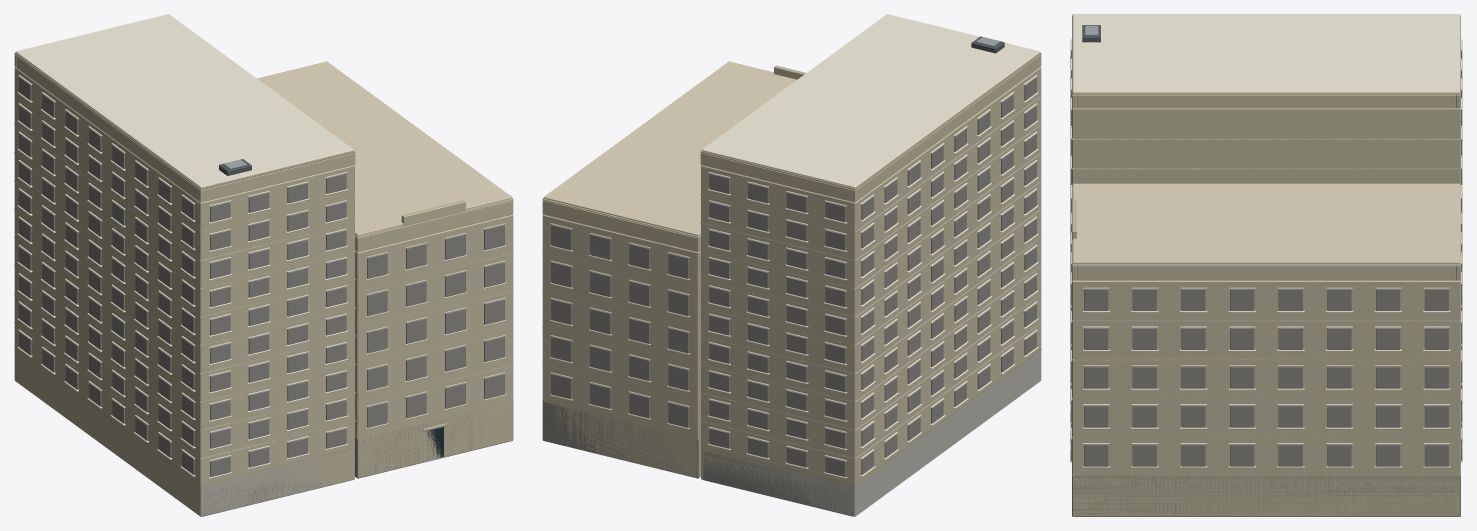
The model's file is VG_Bld_Downtown_06.fbx.
3 views of the same model, side by side, from view 1: azimuth 30°, elevation 25°; view 2: azimuth 150°, elevation 25°; view 3: azimuth 270°, elevation 25° (orthographic). The views are drawn at different scales.
Parts seen in each view (by area): view 1: VG_Bld_Downtown_06_Body; view 2: VG_Bld_Downtown_06_Body; view 3: VG_Bld_Downtown_06_Body.
Part boxes in pixels (<box>): VG_Bld_Downtown_06_Body: <box>14,14,513,516</box>; VG_Bld_Downtown_06_Body: <box>542,14,1041,516</box>; VG_Bld_Downtown_06_Body: <box>1070,14,1462,516</box>.
Bounding box in the file's own units: 38 × 38.44 × 39.
